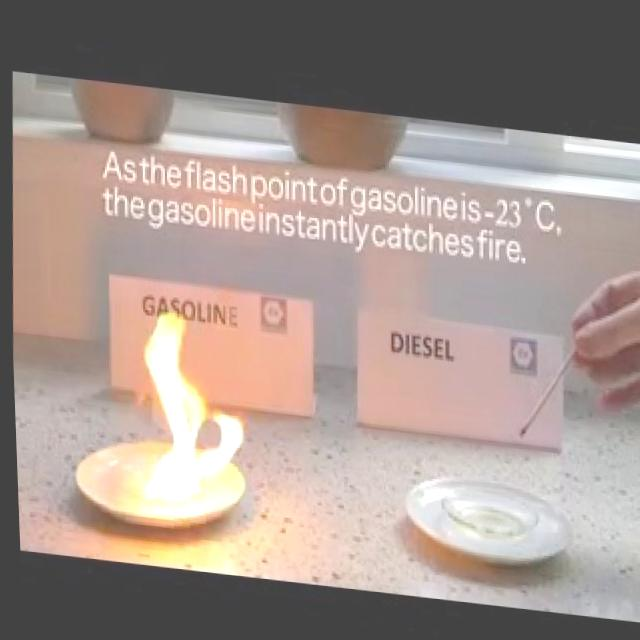Fire: (121, 292, 246, 511)
